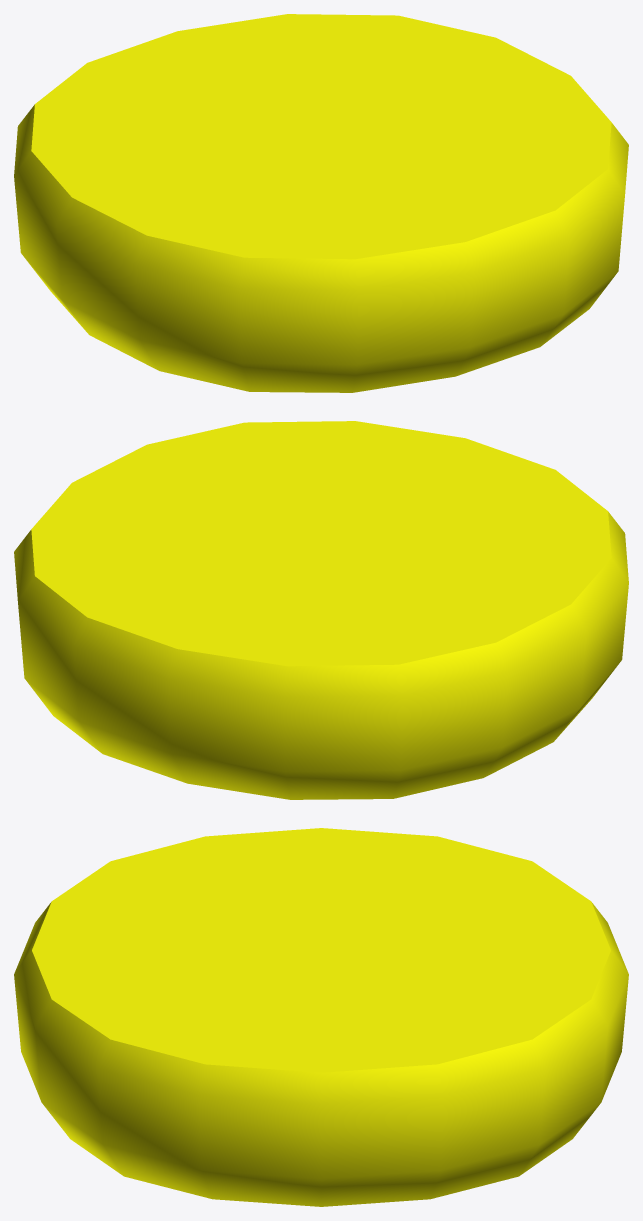
The model's file is food_ingredient_bun_bottom.gltf.
3 views of the same model, one above another, from view 1: azimuth 30°, elevation 25°; view 2: azimuth 150°, elevation 25°; view 3: azimuth 270°, elevation 25° (orthographic).
Visible parts, largest first — view 1: food_ingredient_bun_bottom; view 2: food_ingredient_bun_bottom; view 3: food_ingredient_bun_bottom.
Boxes of the visible parts, <box> form: food_ingredient_bun_bottom: <box>14,14,628,392</box>; food_ingredient_bun_bottom: <box>14,421,628,799</box>; food_ingredient_bun_bottom: <box>14,828,628,1206</box>.
Bounding box in the file's own units: 0.6938 × 0.2 × 0.6938.
Materials: 1 (1 with a texture image).
